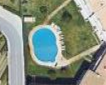pool: (32, 29, 58, 62)
